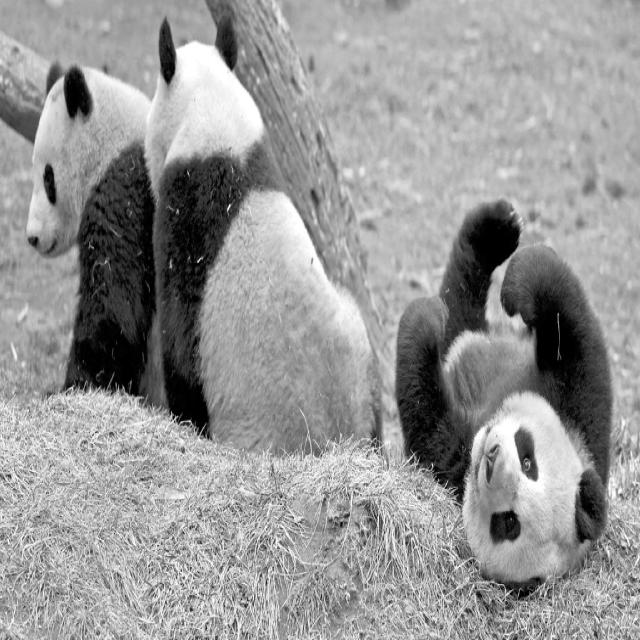panda: (145, 18, 385, 464), (396, 192, 613, 597), (25, 48, 164, 408)
